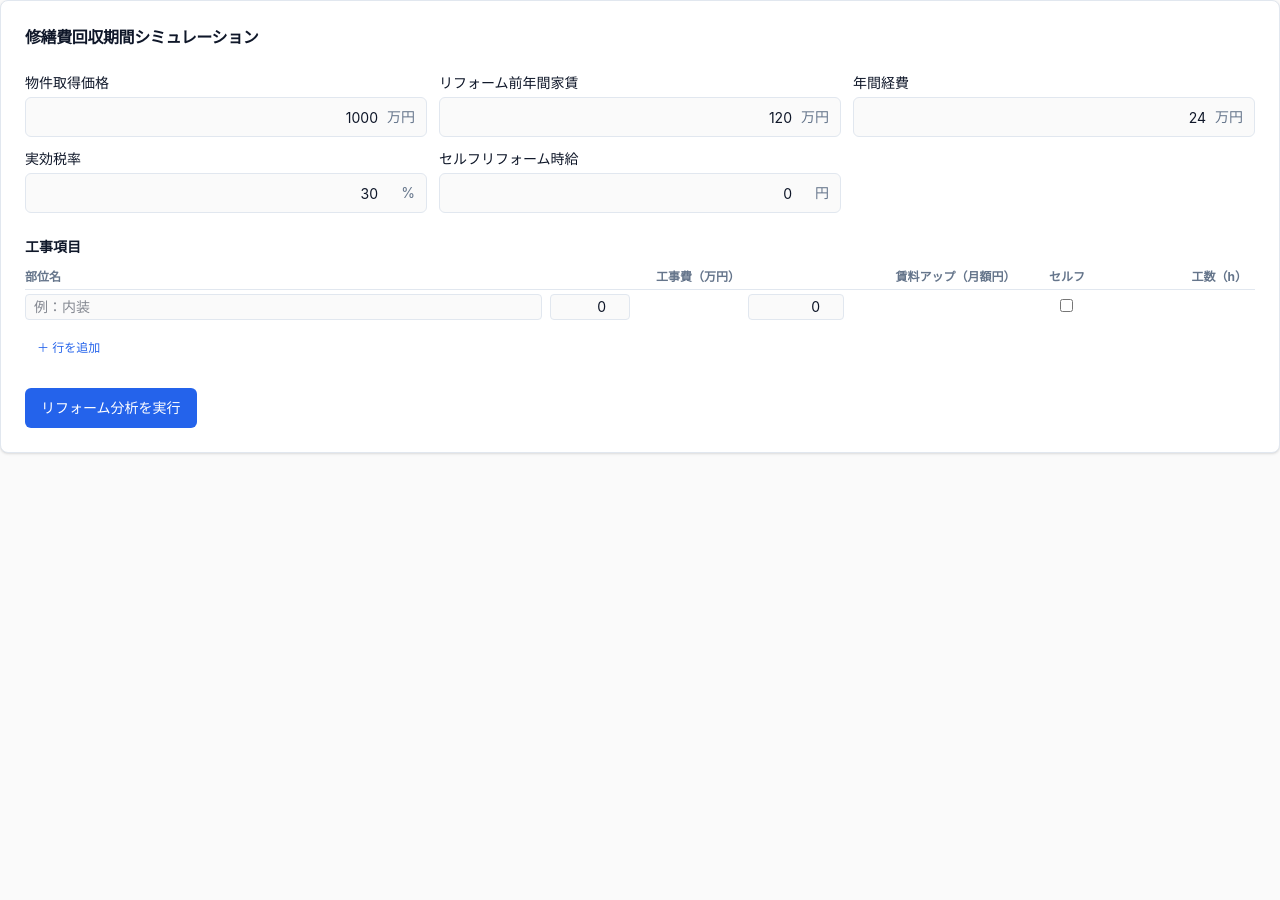
Test case: RenovationPanel › isRecoverable=false のとき「回収不可」が表示される
The width and height of the screenshot is (1280, 900).
Replace the text in the 1st number field with "100". click: (590, 307)
box: [550, 294, 630, 320]
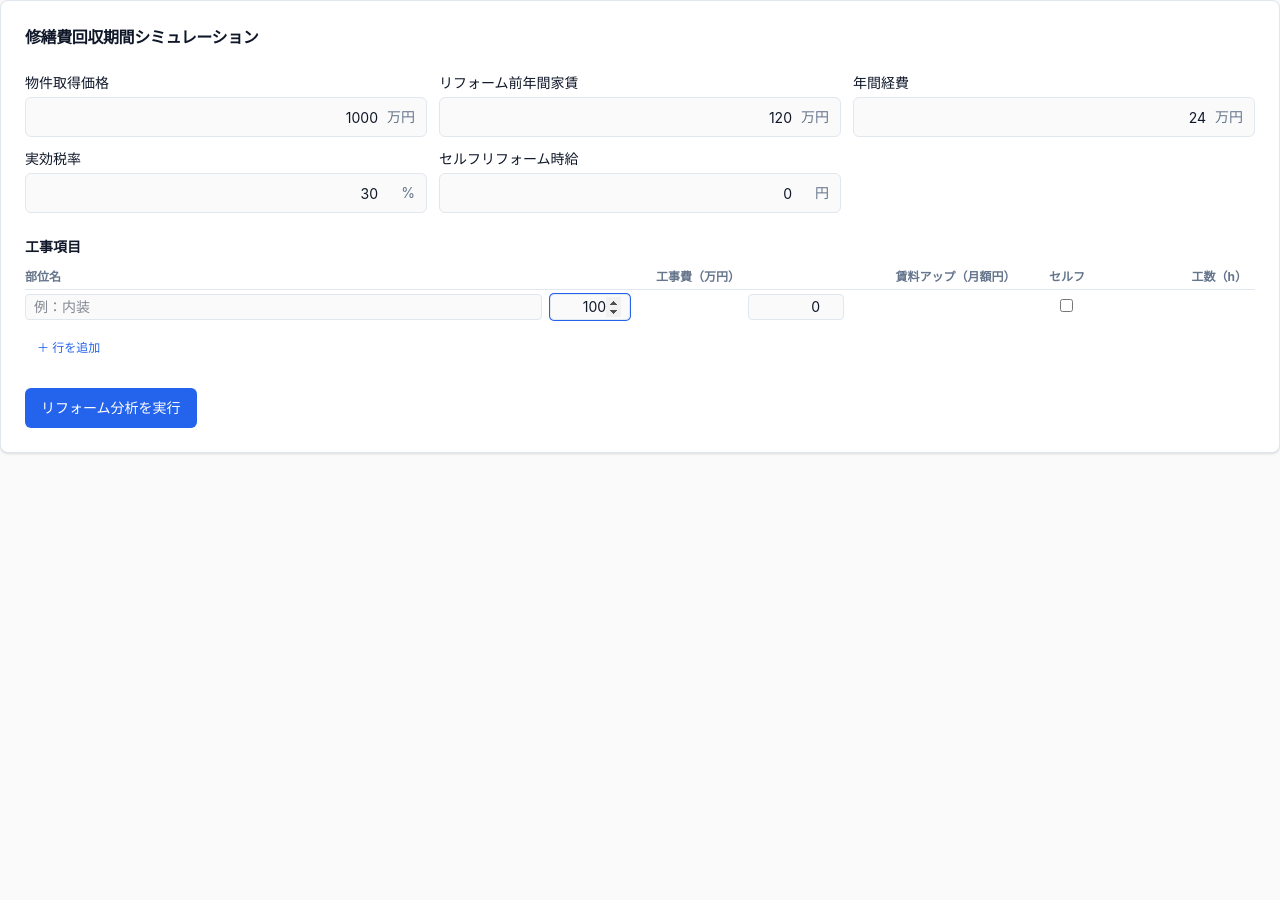
Click the button "リフォーム分析を実行". click: (111, 408)
box: [25, 388, 197, 428]
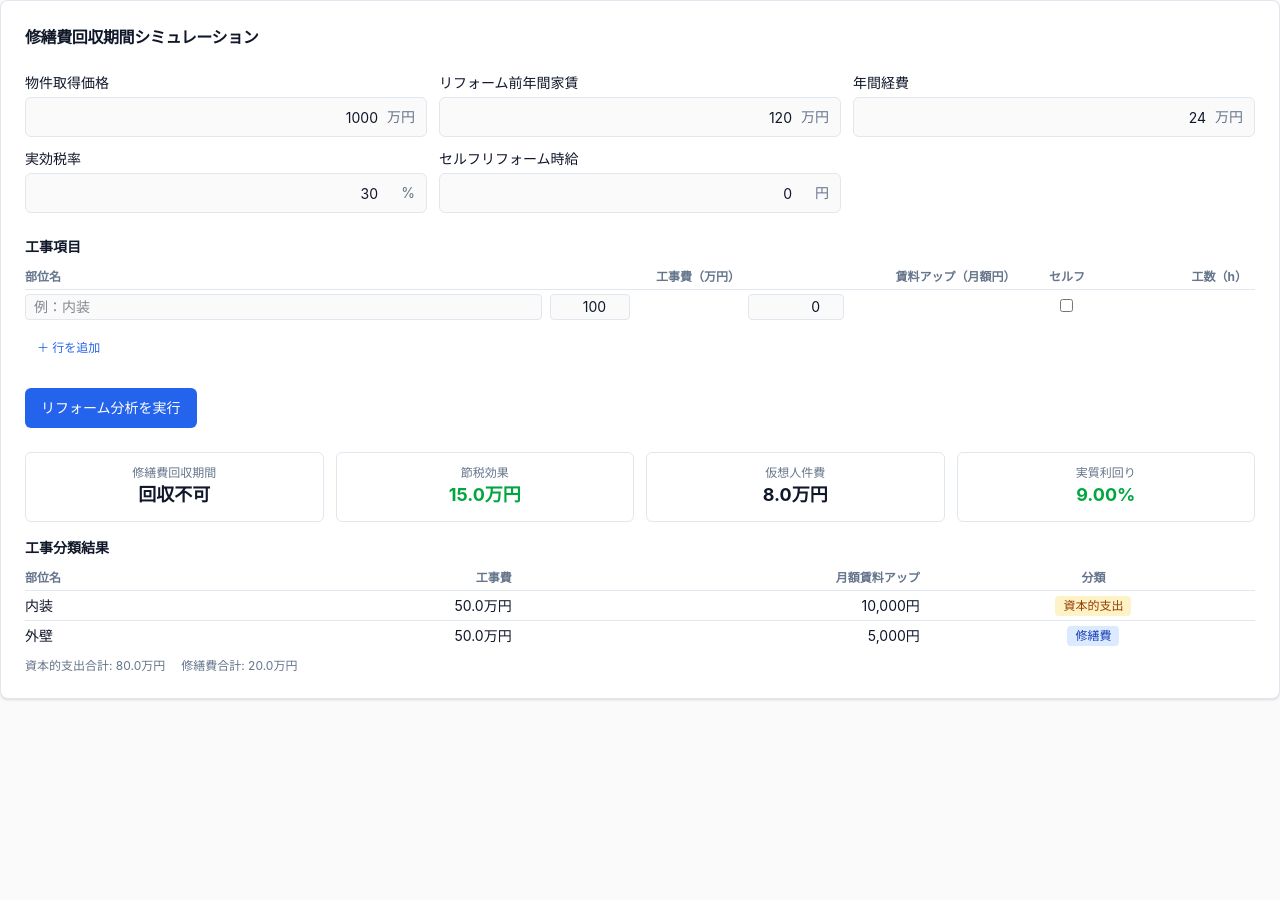
Now the text "回収不可" is shown, box [138, 484, 210, 505]
